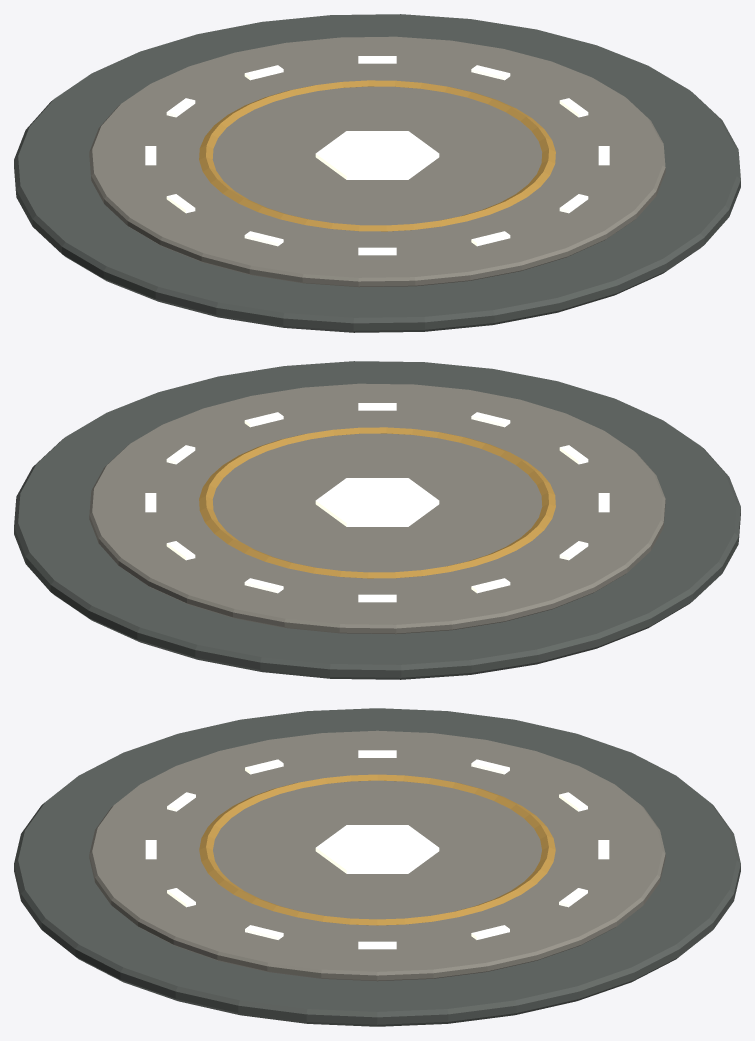
Rendered from SM_AltarDais.fbx.
3 renders of one model, top to bottom at view 1: azimuth 30°, elevation 25°; view 2: azimuth 150°, elevation 25°; view 3: azimuth 270°, elevation 25°, orthographic.
Visible parts, largest first — view 1: SM_AltarDais; view 2: SM_AltarDais; view 3: SM_AltarDais.
Part boxes in pixels (left/top/right/bottom): SM_AltarDais: left=14, top=14, right=740, bottom=332; SM_AltarDais: left=14, top=361, right=740, bottom=679; SM_AltarDais: left=14, top=708, right=740, bottom=1026.
Size of the model in its own units: 530 by 22.5 by 530.
